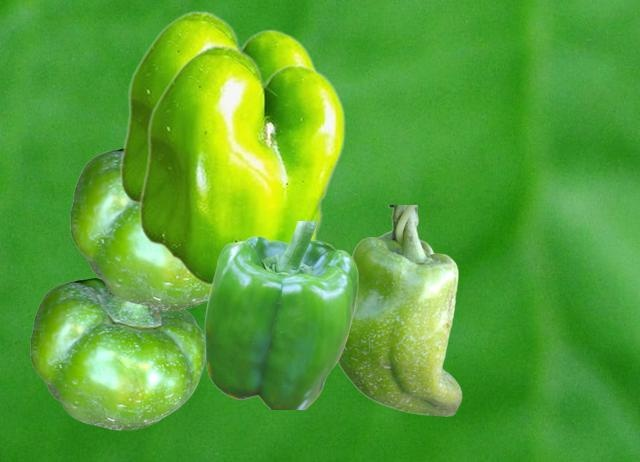bell_pepper: (138, 44, 344, 286), (119, 10, 317, 205), (204, 221, 357, 408), (30, 277, 204, 429), (338, 205, 461, 415), (70, 146, 209, 309)
